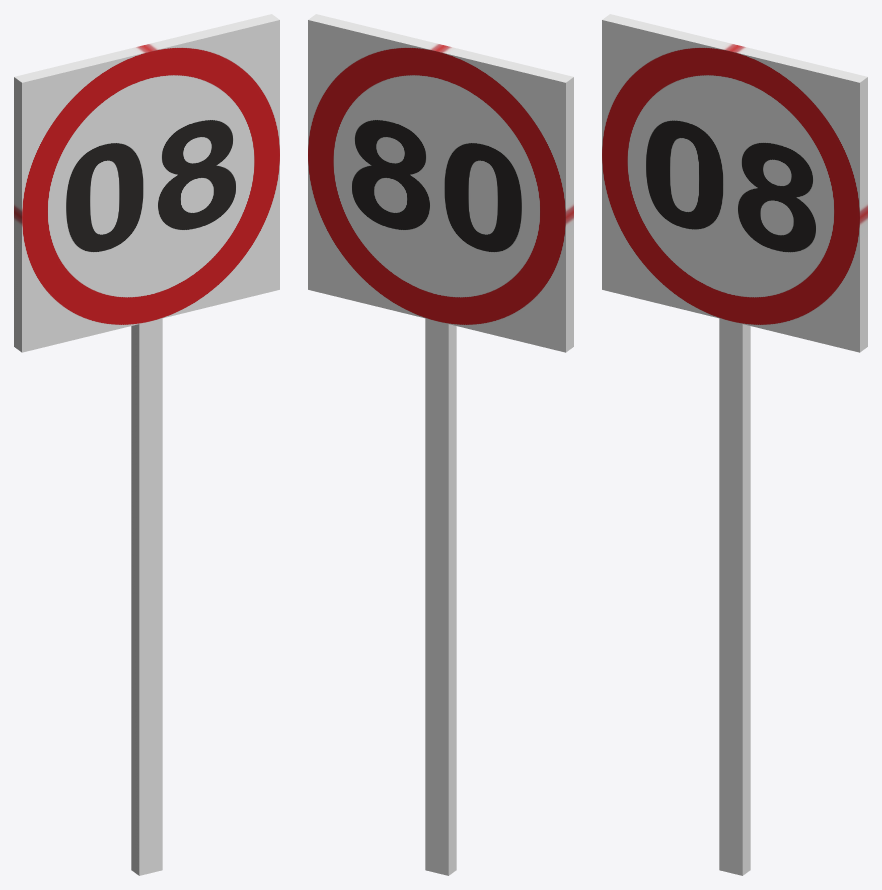
Rendered from Sign80.fbx.
The picture shows the model from 3 angles, left to right: view 1: azimuth 30°, elevation 25°; view 2: azimuth 150°, elevation 25°; view 3: azimuth 330°, elevation 25°; orthographic projection.
Parts seen in each view (by area): view 1: 80; view 2: 80; view 3: 80.
Part boxes in pixels (bbox=[...]): 80: bbox=[14, 14, 279, 875]; 80: bbox=[308, 14, 573, 875]; 80: bbox=[602, 14, 867, 875].
Bounding box in the file's own units: 288 × 878 × 15.7.
